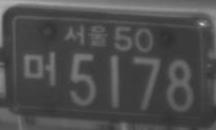0: (133, 25, 155, 55)
1: (102, 53, 127, 110)
5: (67, 51, 98, 108), (113, 24, 133, 53)
7: (130, 55, 163, 111)
8: (164, 57, 195, 114)
머: (21, 49, 58, 87)
서울_O: (63, 23, 109, 48)
